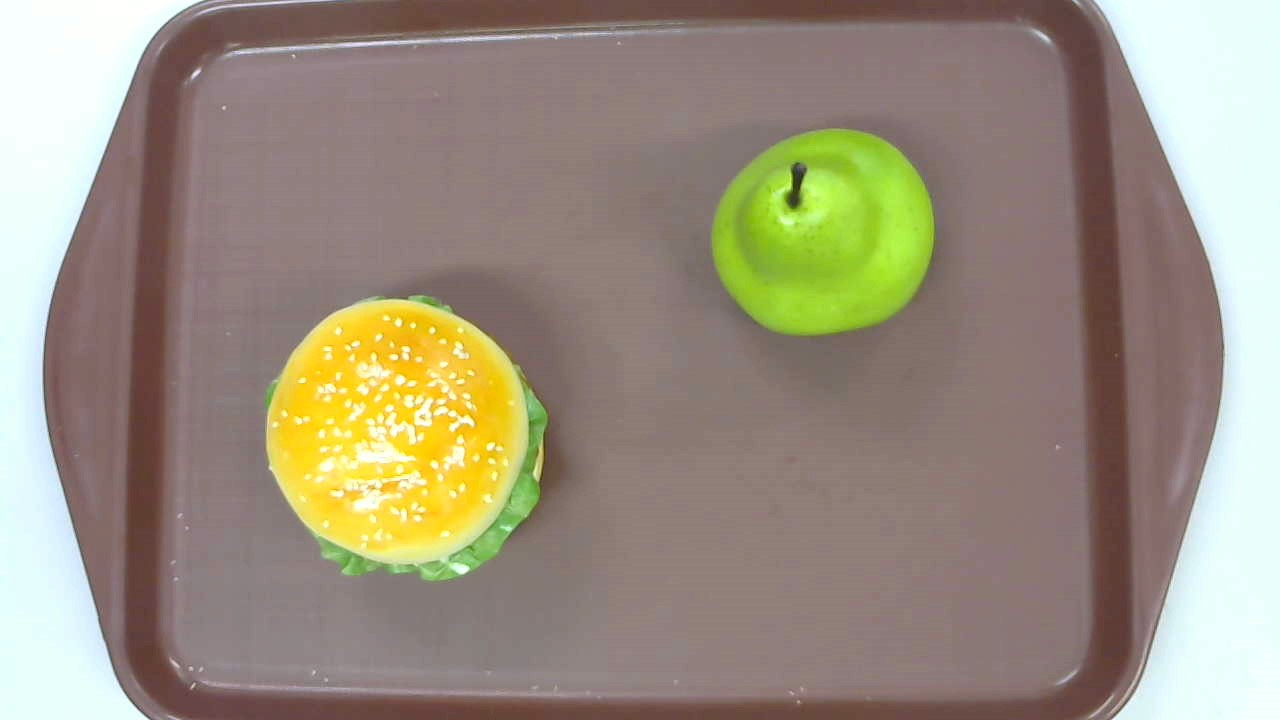green pear: (711, 126, 935, 335)
hamburger: (265, 294, 548, 580)
